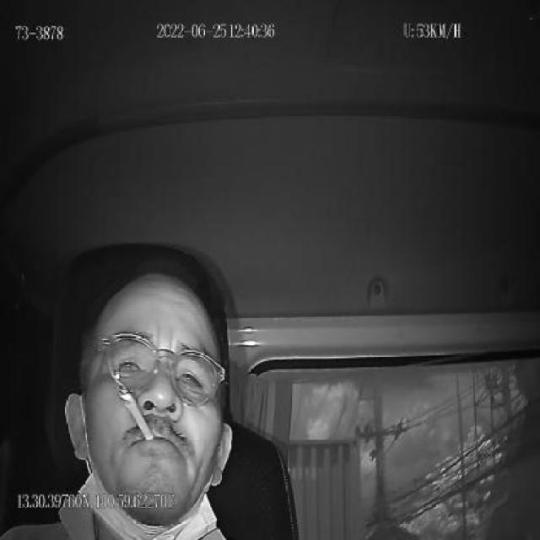smoking: (117, 387, 156, 442)
